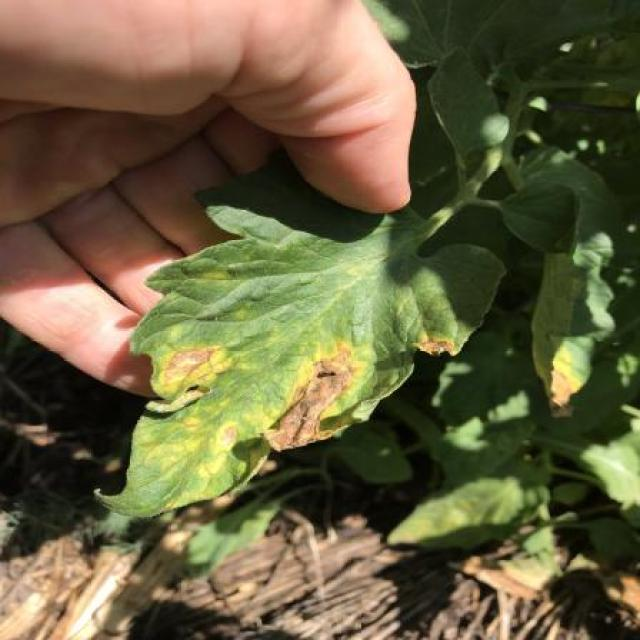Early Blight: (117, 206, 509, 521)
